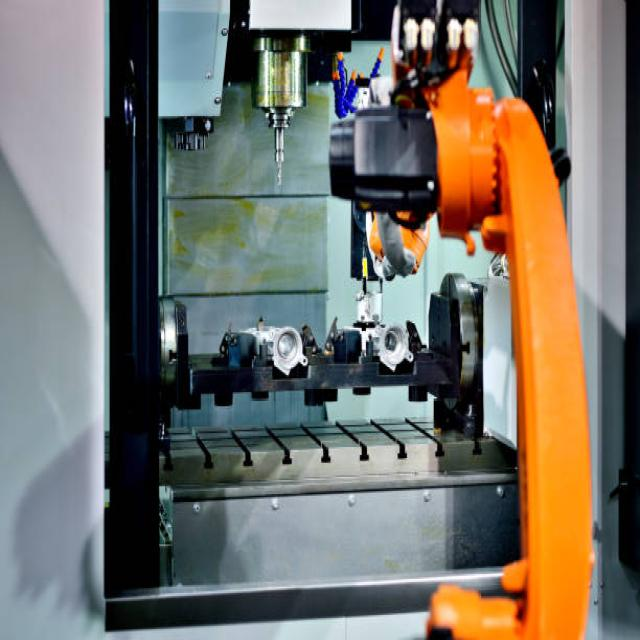Robotic-arm: (325, 44, 620, 640)
